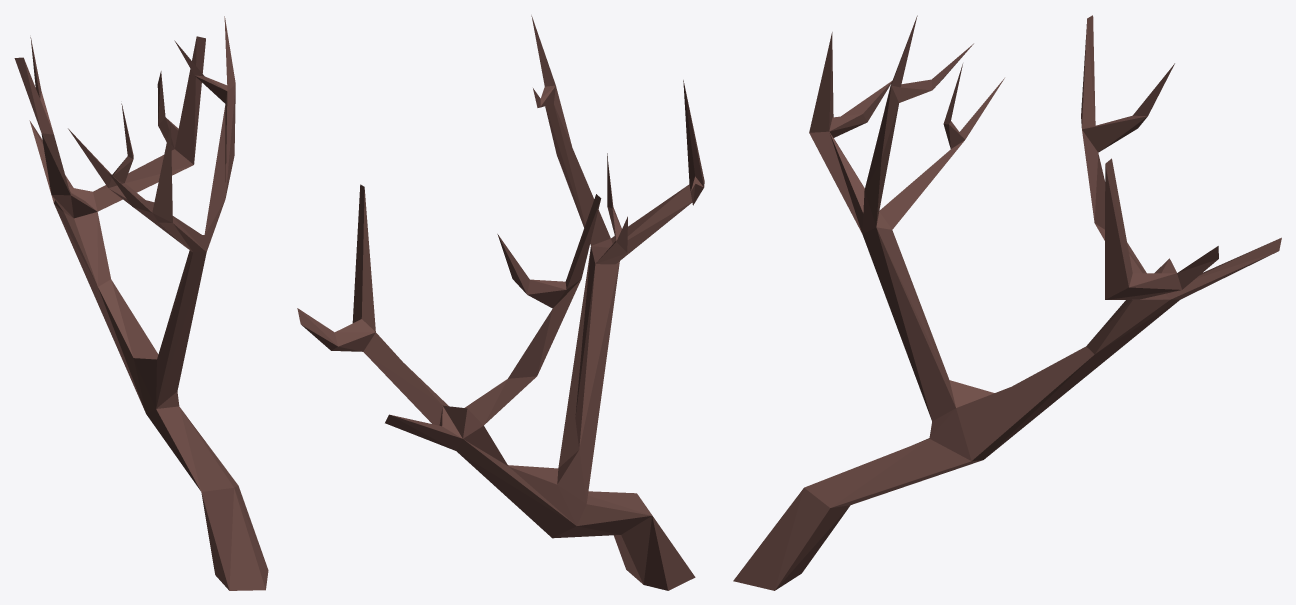
The model's file is Willow_Dead_2.lod3.glb.
The picture shows the model from 3 angles, left to right: view 1: azimuth 30°, elevation 25°; view 2: azimuth 150°, elevation 25°; view 3: azimuth 270°, elevation 25°; orthographic projection. The views are drawn at different scales.
Parts seen in each view (by area): view 1: Willow_Dead_2; view 2: Willow_Dead_2; view 3: Willow_Dead_2.
Part boxes in pixels (<box>): Willow_Dead_2: <box>14,16,268,590</box>; Willow_Dead_2: <box>297,15,704,590</box>; Willow_Dead_2: <box>733,15,1281,590</box>.
Bounding box in the file's own units: 1.17 × 2.84 × 2.4.
